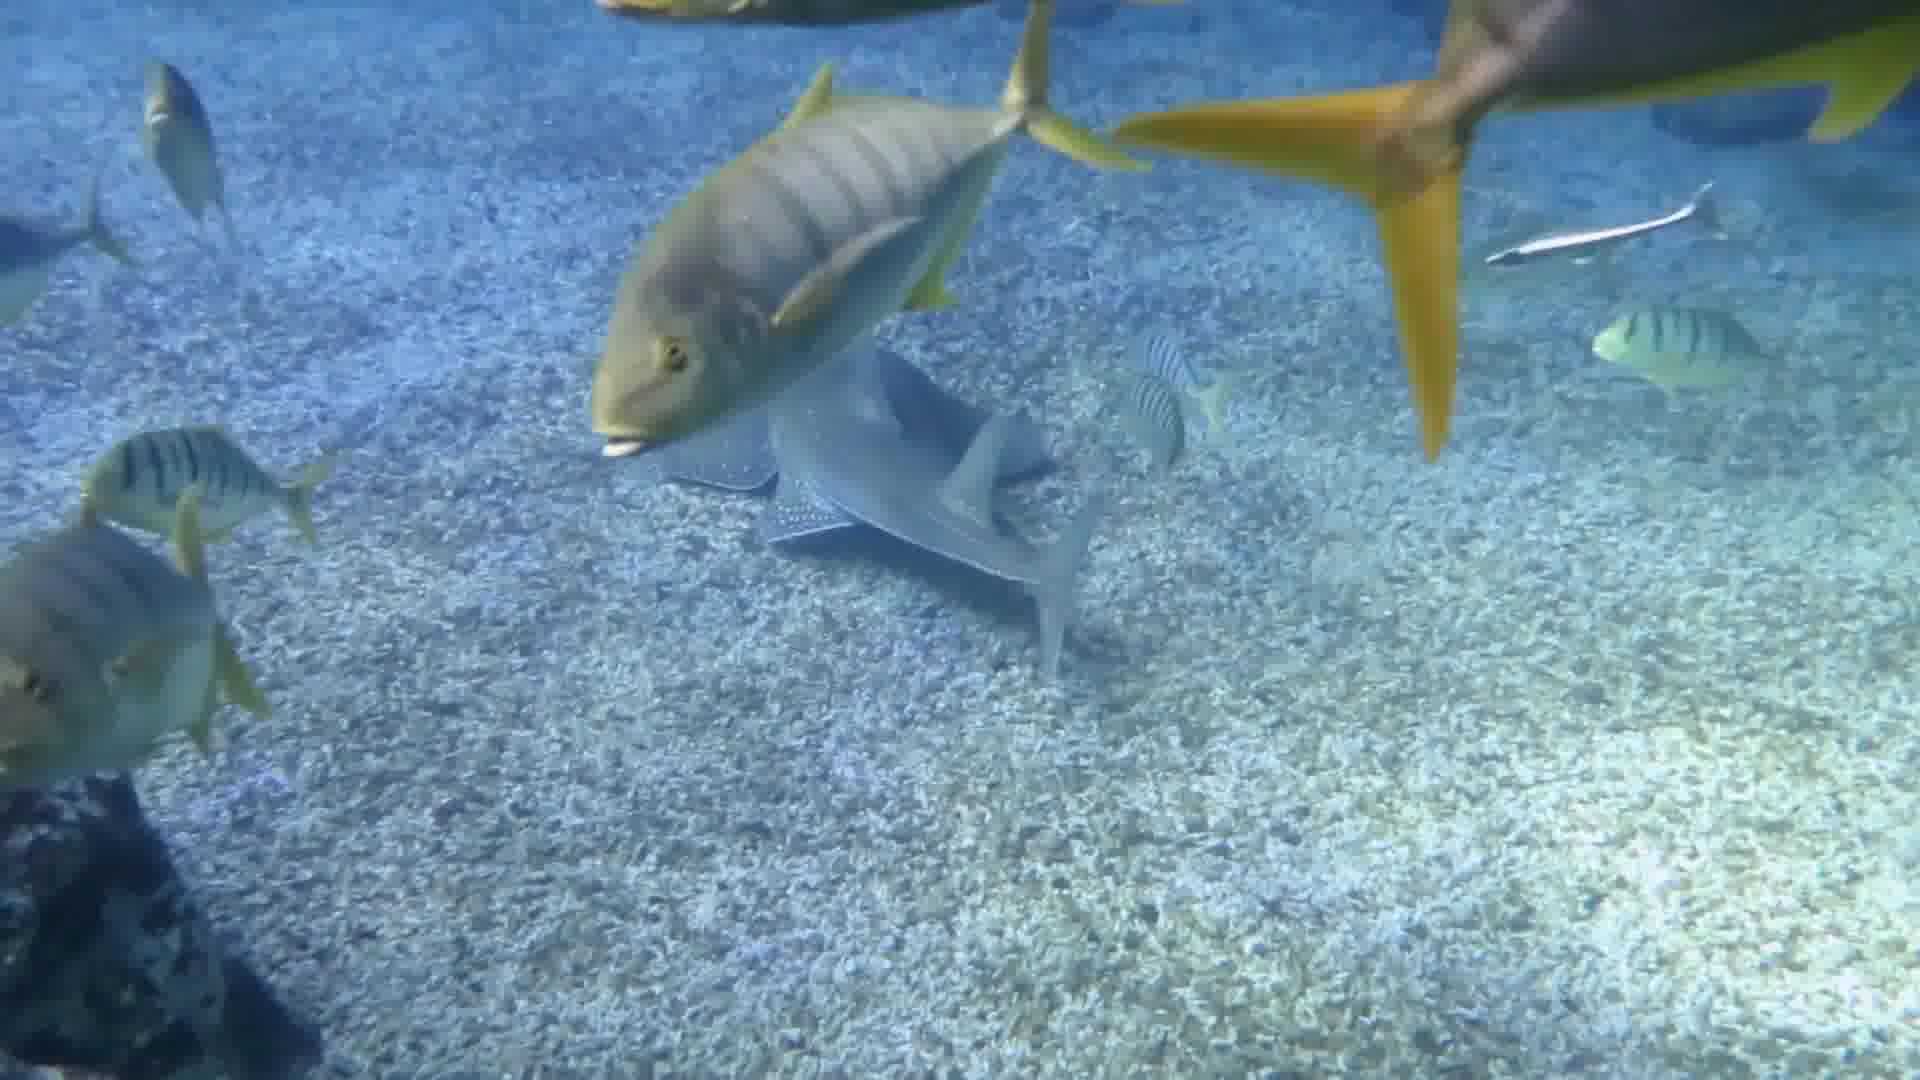Rhychobatus djiddensis: (761, 356, 1091, 636)
